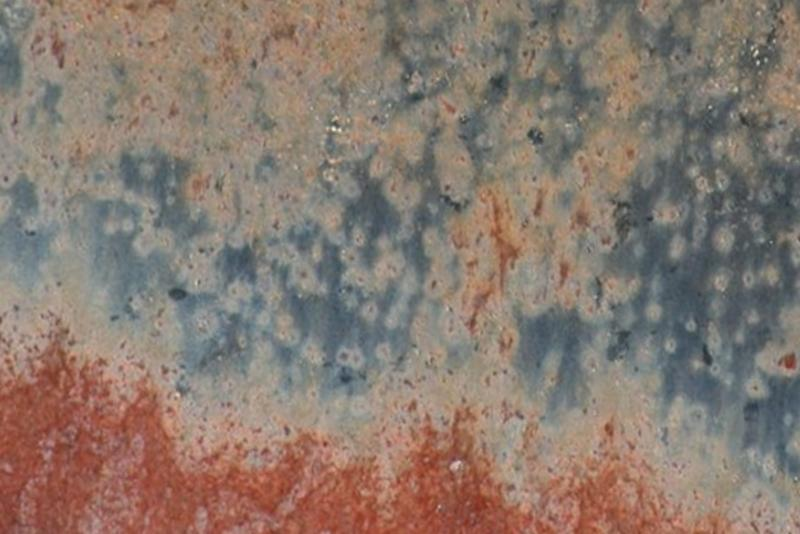rust: (9, 346, 674, 534)
